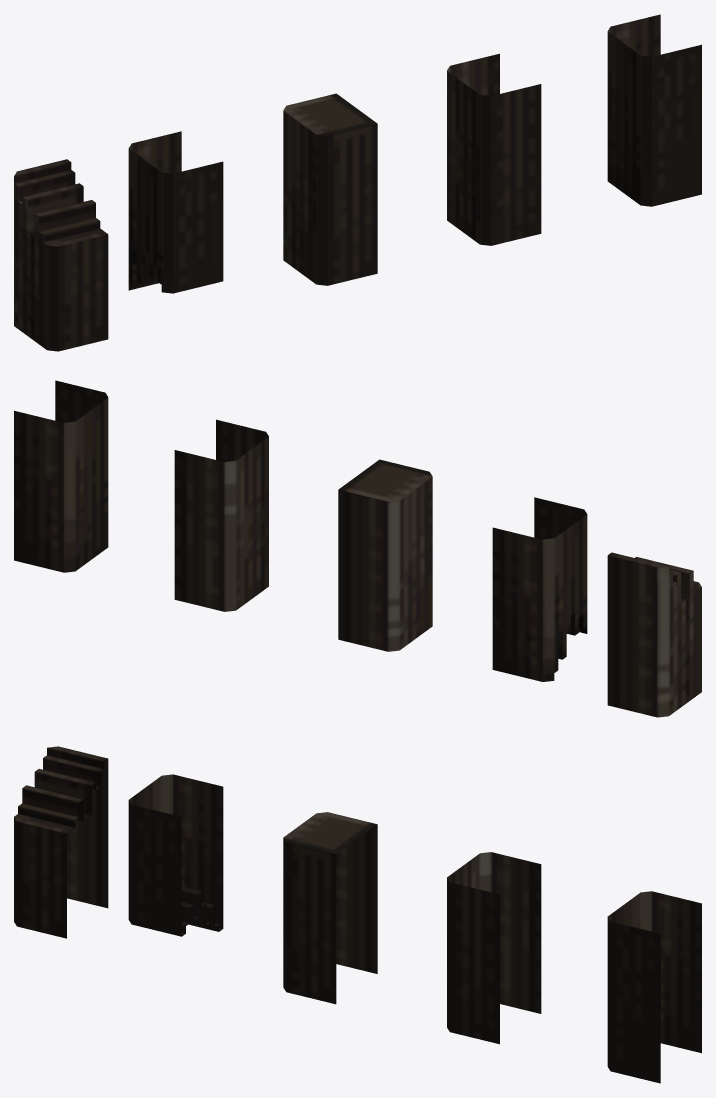
File: EnvMdrMD_ClockTower_Pillar_Vertical_End.FBX
3 views of the same model, one above another, from view 1: azimuth 30°, elevation 25°; view 2: azimuth 150°, elevation 25°; view 3: azimuth 330°, elevation 25° (orthographic).
Parts seen in each view (by area): view 1: EnvMdrMD_ClockTower_Pillar_Vertical_Start, EnvMdrMD_ClockTower_Pillar_Vertical_End, EnvMdrMD_ClockTower_Pillar_Vertical_Loop, EnvMdrMD_ClockTower_Pillar_Vertical_Start_Break, EnvMdrMD_ClockTower_Pillar_Vertical_End_Break; view 2: EnvMdrMD_ClockTower_Pillar_Vertical_Start, EnvMdrMD_ClockTower_Pillar_Vertical_End, EnvMdrMD_ClockTower_Pillar_Vertical_Loop, EnvMdrMD_ClockTower_Pillar_Vertical_End_Break, EnvMdrMD_ClockTower_Pillar_Vertical_Start_Break; view 3: EnvMdrMD_ClockTower_Pillar_Vertical_Start, EnvMdrMD_ClockTower_Pillar_Vertical_End, EnvMdrMD_ClockTower_Pillar_Vertical_Loop, EnvMdrMD_ClockTower_Pillar_Vertical_Start_Break, EnvMdrMD_ClockTower_Pillar_Vertical_End_Break.
Boxes of the visible parts, left/top/right/bottom form: EnvMdrMD_ClockTower_Pillar_Vertical_Start: left=283, top=93, right=377, bottom=285; EnvMdrMD_ClockTower_Pillar_Vertical_End: left=607, top=14, right=701, bottom=206; EnvMdrMD_ClockTower_Pillar_Vertical_Loop: left=447, top=53, right=541, bottom=245; EnvMdrMD_ClockTower_Pillar_Vertical_Start_Break: left=14, top=159, right=108, bottom=351; EnvMdrMD_ClockTower_Pillar_Vertical_End_Break: left=128, top=131, right=223, bottom=293; EnvMdrMD_ClockTower_Pillar_Vertical_Start: left=338, top=459, right=432, bottom=651; EnvMdrMD_ClockTower_Pillar_Vertical_End: left=14, top=380, right=108, bottom=572; EnvMdrMD_ClockTower_Pillar_Vertical_Loop: left=174, top=419, right=268, bottom=611; EnvMdrMD_ClockTower_Pillar_Vertical_End_Break: left=492, top=497, right=587, bottom=681; EnvMdrMD_ClockTower_Pillar_Vertical_Start_Break: left=607, top=552, right=701, bottom=717; EnvMdrMD_ClockTower_Pillar_Vertical_Start: left=283, top=812, right=377, bottom=1004; EnvMdrMD_ClockTower_Pillar_Vertical_End: left=607, top=891, right=701, bottom=1083; EnvMdrMD_ClockTower_Pillar_Vertical_Loop: left=447, top=852, right=541, bottom=1044; EnvMdrMD_ClockTower_Pillar_Vertical_Start_Break: left=14, top=746, right=108, bottom=938; EnvMdrMD_ClockTower_Pillar_Vertical_End_Break: left=128, top=774, right=223, bottom=936.
Bounding box in the file's own units: 454 × 100 × 50.
Materials: 1 (1 with a texture image).
